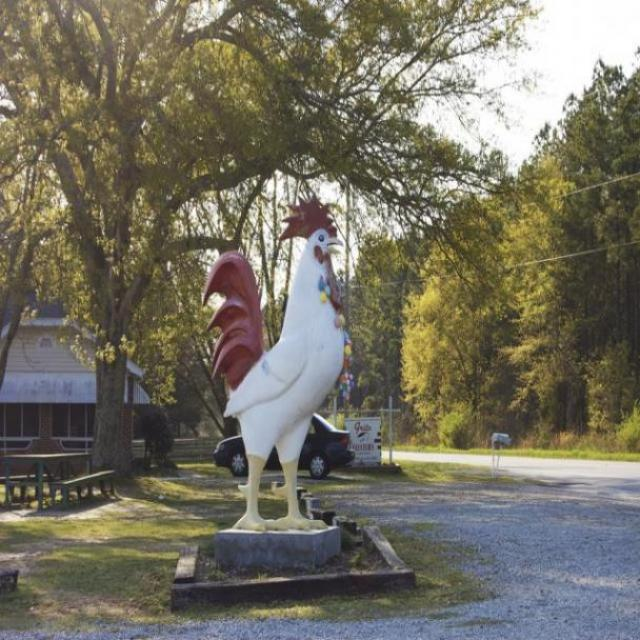Chicken: (190, 180, 367, 542)
